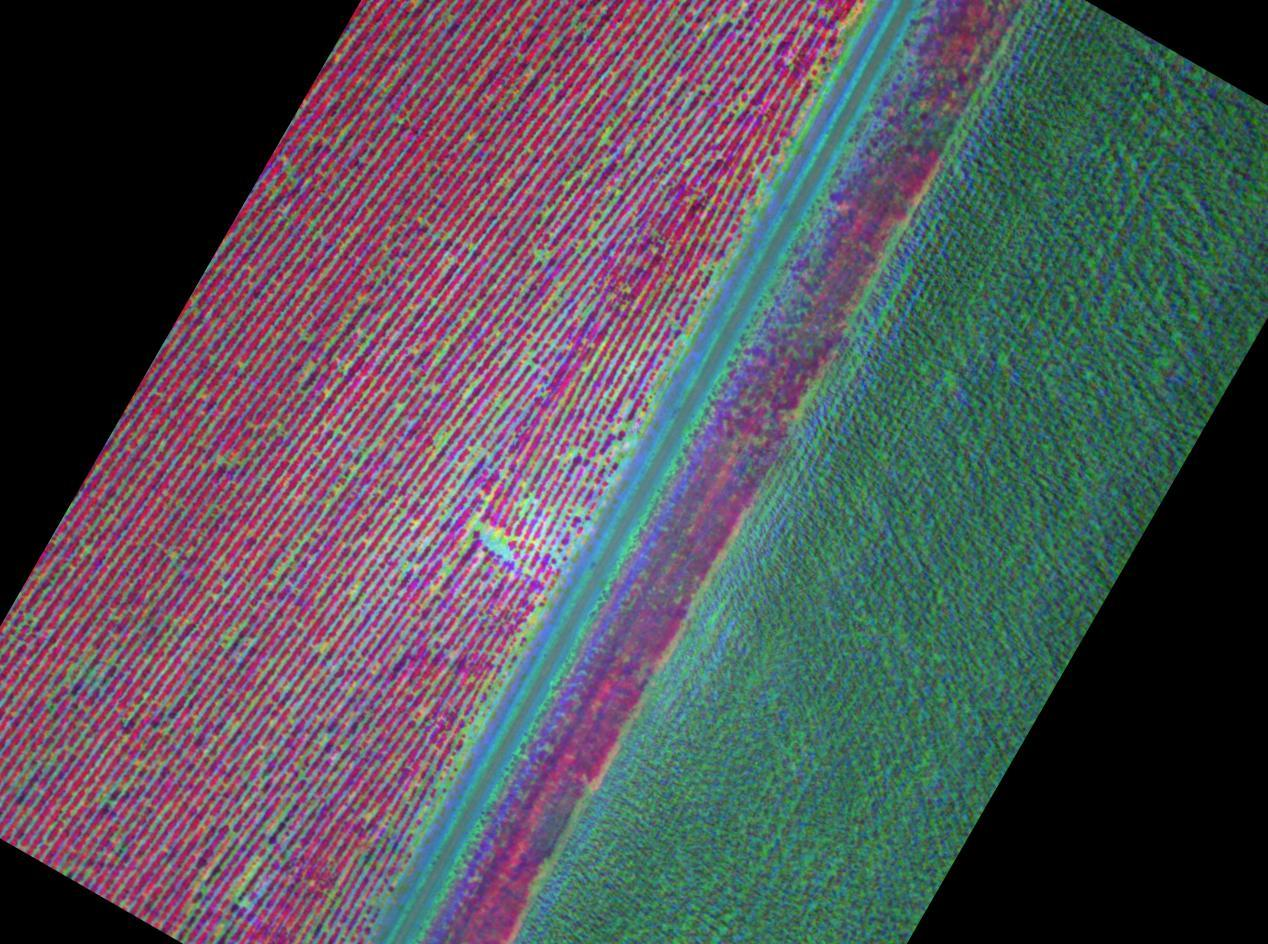dc: (362, 345, 366, 350), (603, 137, 607, 141), (221, 458, 225, 462), (447, 568, 451, 572), (538, 252, 541, 256), (353, 592, 355, 596), (175, 557, 177, 560)
